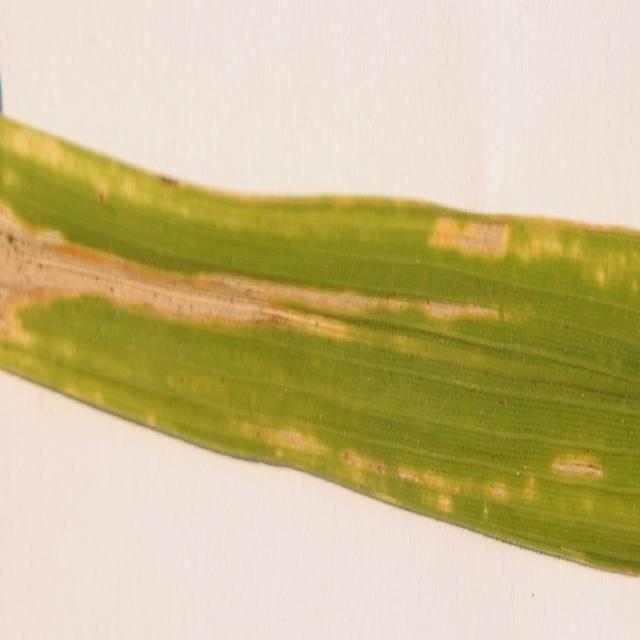bacterial_leaf_blight: (0, 196, 510, 342), (429, 216, 508, 257), (553, 456, 602, 478)
